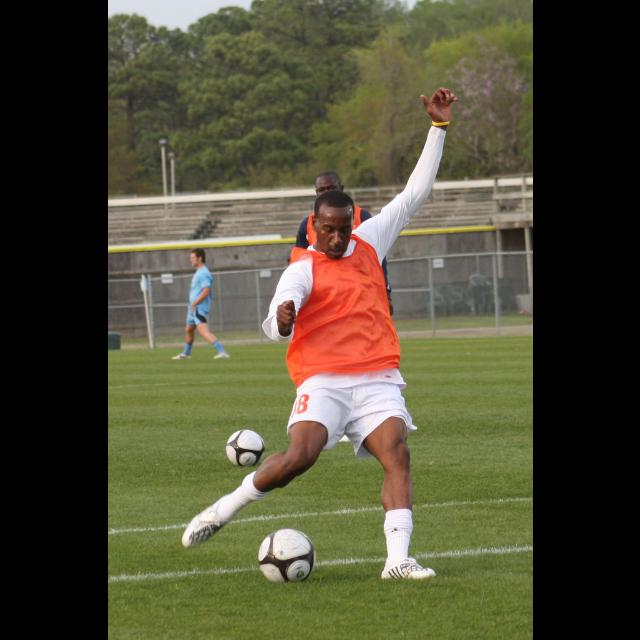Football: (255, 528, 311, 582), (222, 426, 262, 469)
